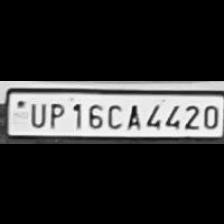0: (200, 102, 220, 128)
1: (66, 100, 83, 128)
2: (180, 102, 200, 128)
4: (142, 100, 162, 128), (162, 101, 180, 127)
6: (84, 100, 104, 128)
A: (122, 100, 142, 128)
C: (103, 100, 123, 128)
P: (44, 99, 66, 127)
U: (25, 98, 47, 126)
